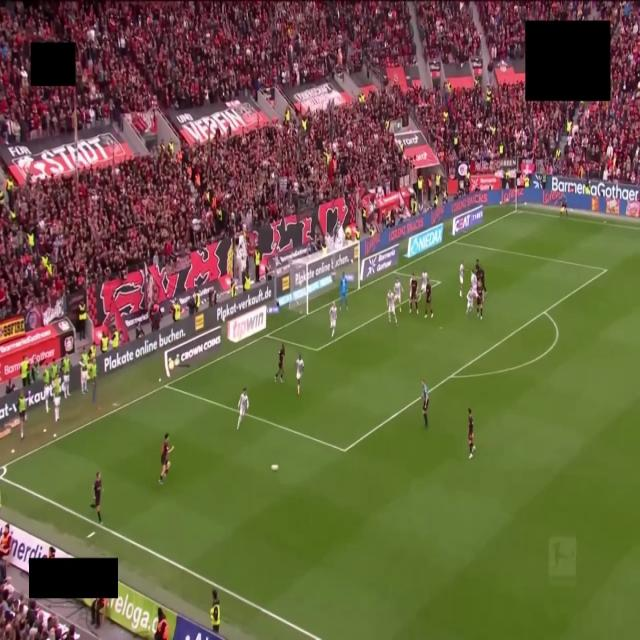ball: (271, 464, 278, 471)
player: (159, 433, 173, 483), (90, 472, 102, 524), (237, 388, 248, 429), (387, 290, 397, 325), (468, 408, 475, 458), (275, 344, 284, 382), (393, 278, 403, 311), (476, 280, 484, 319), (296, 355, 304, 394), (424, 280, 432, 318), (340, 272, 348, 310), (410, 274, 418, 312), (329, 302, 337, 337), (478, 265, 486, 295), (467, 288, 475, 315), (460, 261, 464, 297), (421, 272, 428, 292), (471, 267, 477, 290), (474, 259, 480, 273)
referee: (422, 380, 428, 426)
